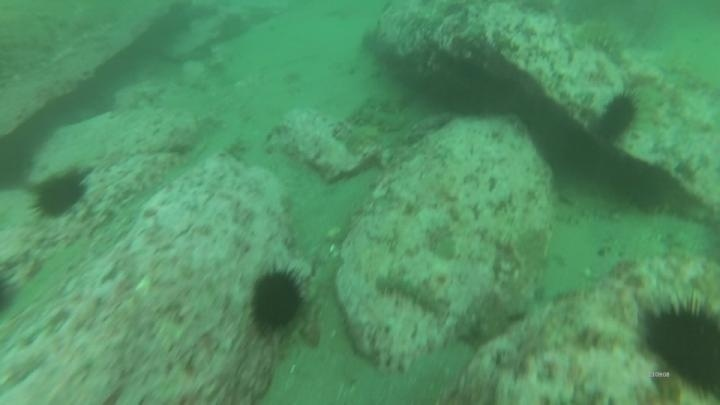echinus: (637, 291, 720, 401), (245, 264, 310, 338), (28, 166, 92, 222), (0, 132, 36, 193), (598, 91, 641, 139)
holothurian: (373, 271, 450, 316), (569, 17, 632, 69), (550, 189, 627, 227), (346, 103, 411, 134)
